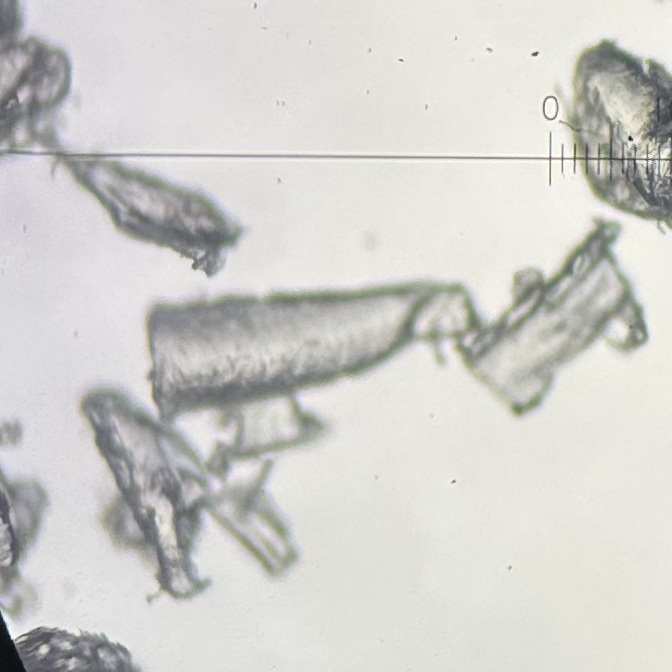microplastic: (147, 277, 479, 434), (457, 216, 651, 421), (76, 387, 214, 604), (41, 140, 247, 282), (549, 37, 672, 239), (1, 1, 77, 160), (201, 488, 301, 582), (1, 458, 50, 621), (10, 621, 146, 672), (231, 388, 329, 458), (235, 459, 268, 524), (205, 437, 235, 486), (1, 417, 25, 455)
